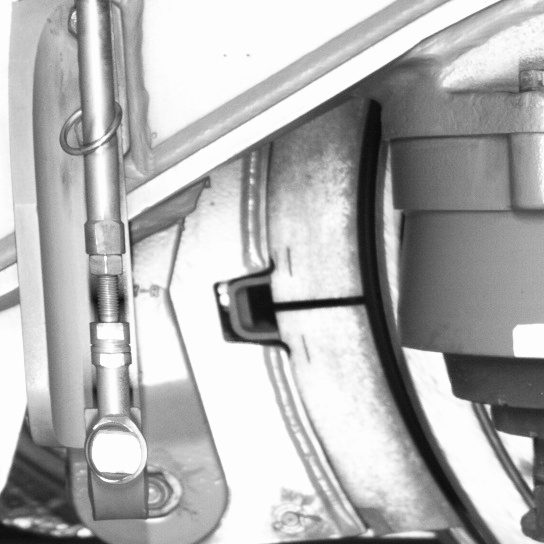KnifeSwitch: (278, 135, 501, 541)
